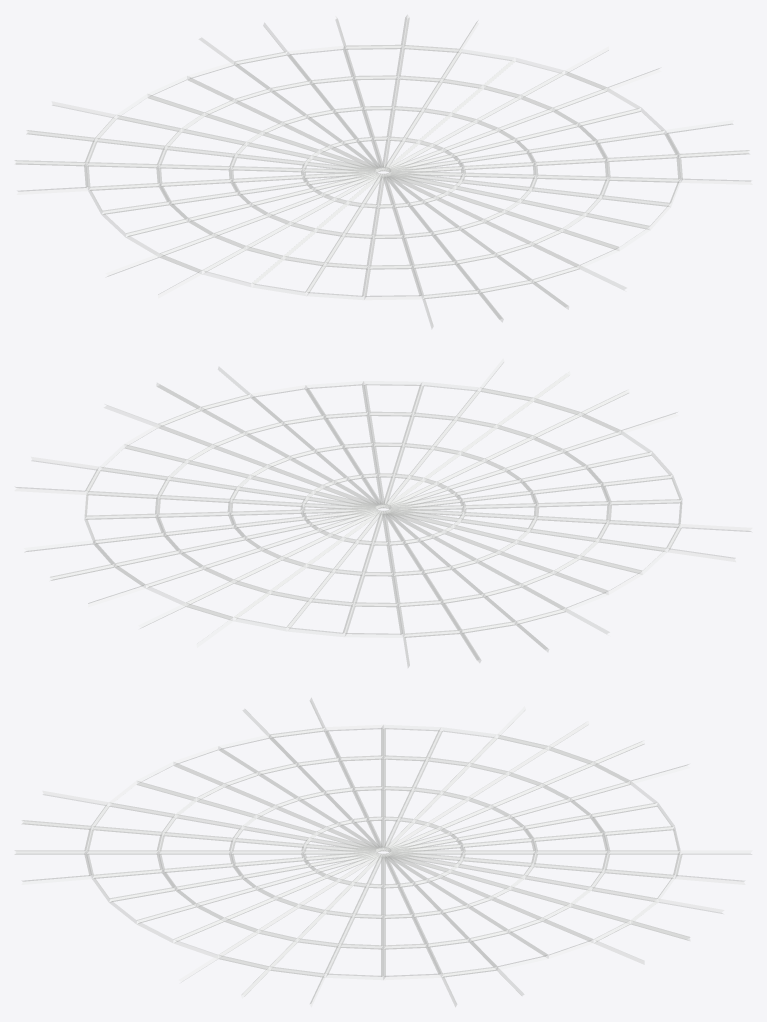
Rendered from teiav3.fbx.
3 views of the same model, one above another, from view 1: azimuth 30°, elevation 25°; view 2: azimuth 150°, elevation 25°; view 3: azimuth 270°, elevation 25° (orthographic).
Parts seen in each view (by area): view 1: Circle; view 2: Circle; view 3: Circle.
Boxes of the visible parts, x1,y1,x2,y2 form: Circle: (14,15,752,328); Circle: (15,359,751,667); Circle: (14,698,752,1006).
Bounding box in the file's own units: 1.75 × 0.0116 × 1.79.
